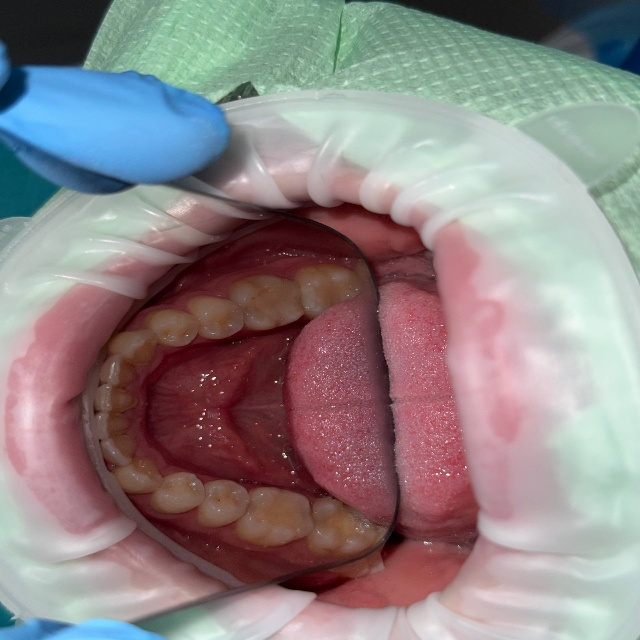plaque: (0, 39, 230, 184), (564, 0, 639, 73), (0, 617, 165, 639)
